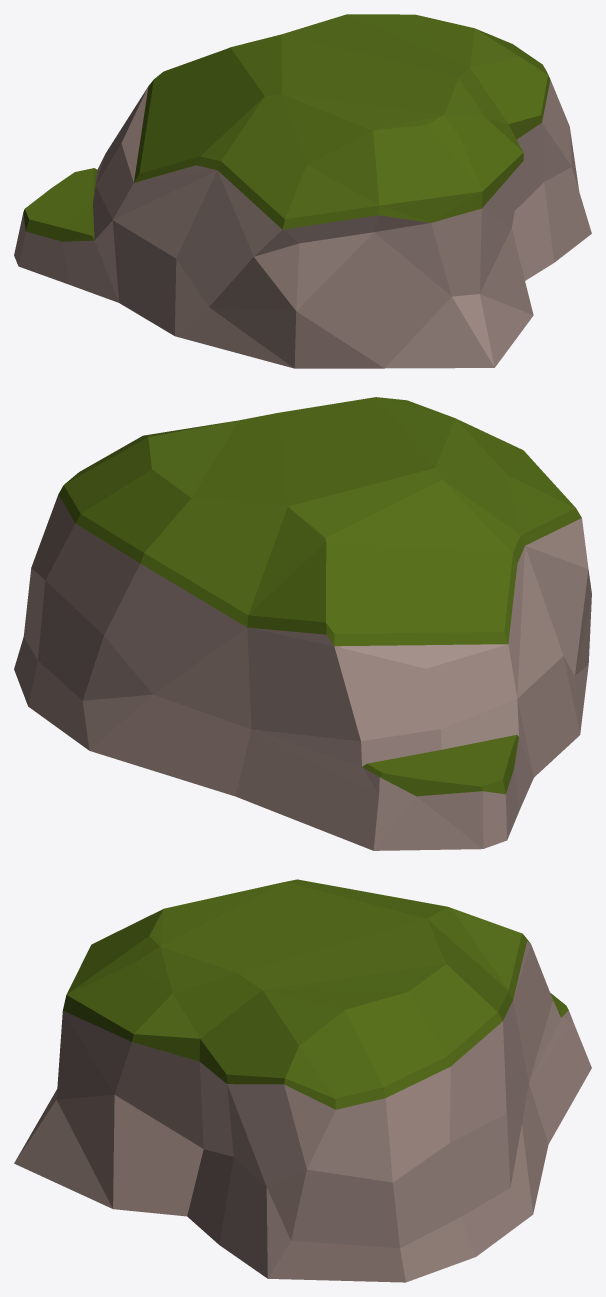
File: Rock_6.fbx
3 views of the same model, one above another, from view 1: azimuth 30°, elevation 25°; view 2: azimuth 150°, elevation 25°; view 3: azimuth 270°, elevation 25° (orthographic). The views are drawn at different scales.
Parts seen in each view (by area): view 1: Rock_6; view 2: Rock_6; view 3: Rock_6.
Part boxes in pixels (x1,y1,x2,y2): Rock_6: (14,14,591,368); Rock_6: (14,397,591,850); Rock_6: (14,879,591,1282).
Bounding box in the file's own units: 12.77 × 5.43 × 12.16.
